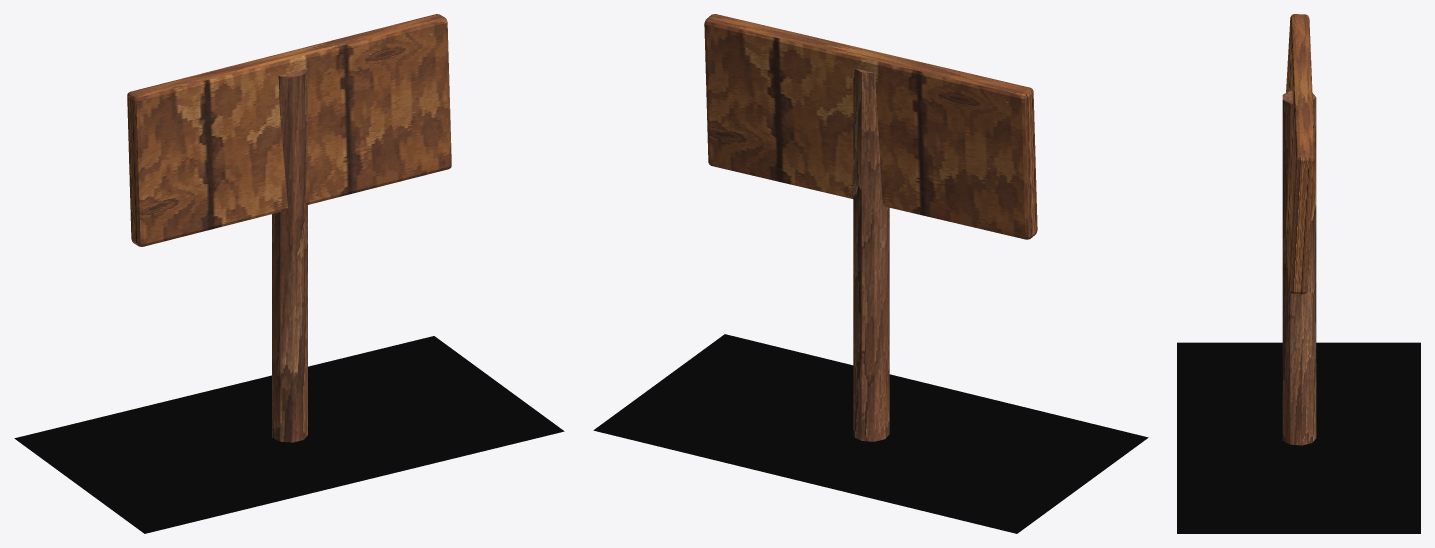
File: signboard.glb
3 renders of one model, left to right at view 1: azimuth 30°, elevation 25°; view 2: azimuth 150°, elevation 25°; view 3: azimuth 270°, elevation 25°, orthographic. The views are drawn at different scales.
Visible parts, largest first — view 1: ContactShadow, board, post; view 2: ContactShadow, board, post; view 3: ContactShadow, post, board.
Boxes of the visible parts, x1,y1,x2,y2 form: ContactShadow: (14,336,564,533); board: (127,14,451,246); post: (272,68,307,442); ContactShadow: (593,334,1148,533); board: (704,14,1037,239); post: (853,68,889,441); ContactShadow: (1177,342,1420,533); post: (1282,90,1316,445); board: (1285,14,1315,294).
Size of the model in its own units: 1.3 by 1.14 by 0.7.
Materials: 3 (3 with a texture image).
